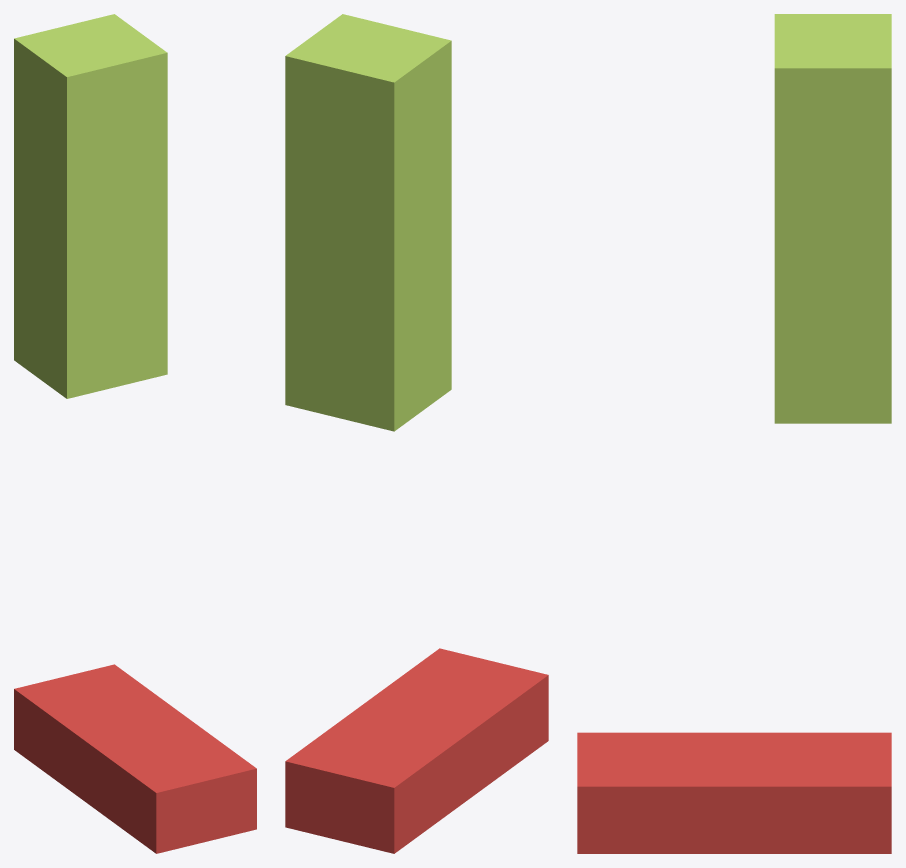
Rendered from Pantalla_8.DEF_piezas.fbx.
3 views of the same model, side by side, from view 1: azimuth 30°, elevation 25°; view 2: azimuth 150°, elevation 25°; view 3: azimuth 270°, elevation 25° (orthographic). The views are drawn at different scales.
Visible parts, largest first — view 1: Pantalla_Antes_Obtención_rana.001; view 2: Pantalla_Antes_Obtención_rana.001; view 3: Pantalla_Antes_Obtención_rana.001.
Part boxes in pixels (x1,y1,x2,y2): Pantalla_Antes_Obtención_rana.001: (14,14,256,853); Pantalla_Antes_Obtención_rana.001: (285,14,548,853); Pantalla_Antes_Obtención_rana.001: (577,14,891,853).
Size of the model in its own units: 251 by 1696 by 615.
